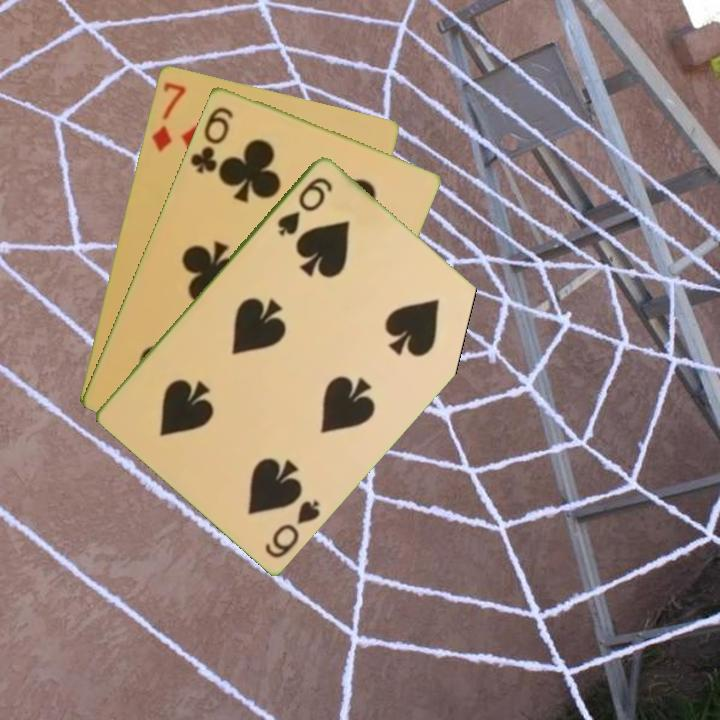6c: (186, 102, 236, 177)
6s: (273, 173, 336, 239), (260, 495, 323, 561)
7d: (147, 78, 188, 154)
